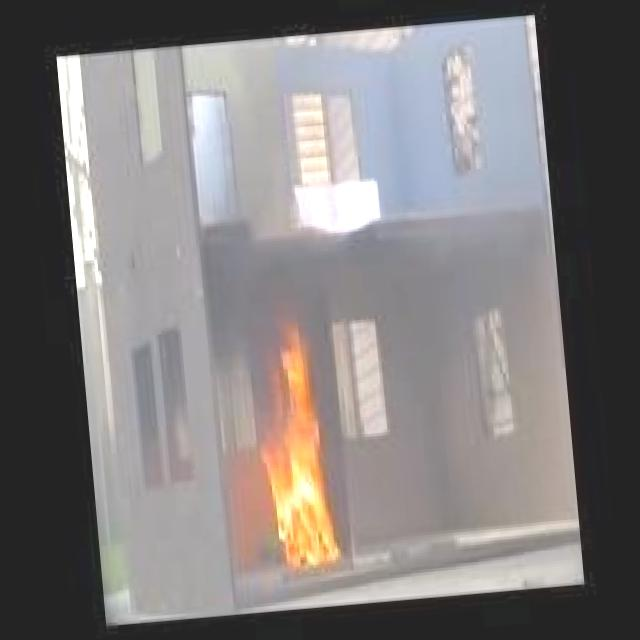fire: (228, 306, 350, 577)
